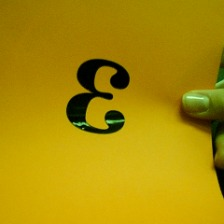orange3: (64, 56, 134, 138)
